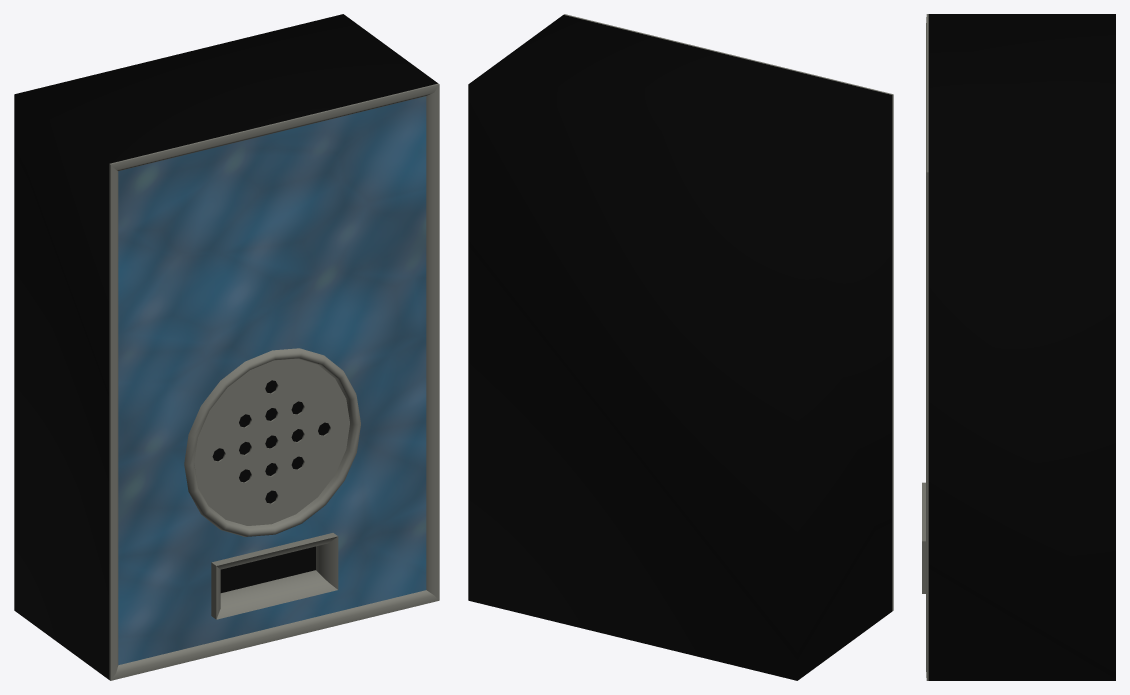
The model's file is OT_017_casino_reception_cabinet.glb.
3 views of the same model, side by side, from view 1: azimuth 30°, elevation 25°; view 2: azimuth 150°, elevation 25°; view 3: azimuth 270°, elevation 25° (orthographic).
Parts seen in each view (by area): view 1: glass, speaker, money_placement; view 2: glass; view 3: glass, money_placement.
Boxes of the visible parts, x1,y1,x2,y2 form: glass: [14, 14, 439, 680]; speaker: [184, 348, 360, 536]; money_placement: [211, 533, 338, 619]; glass: [468, 14, 893, 680]; glass: [926, 14, 1115, 680]; money_placement: [922, 482, 925, 593].
Size of the model in its own units: 1.5 by 2.25 by 0.7767.
3 materials, 1 textured.
